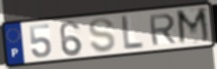5: (28, 22, 53, 59)
6: (58, 19, 85, 58)
L: (120, 14, 145, 51)
M: (175, 6, 213, 47)
R: (147, 12, 179, 47)
S: (87, 16, 118, 54)
